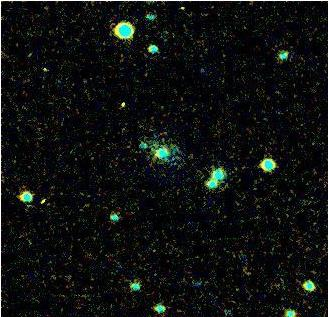star: (29, 55, 59, 85)
